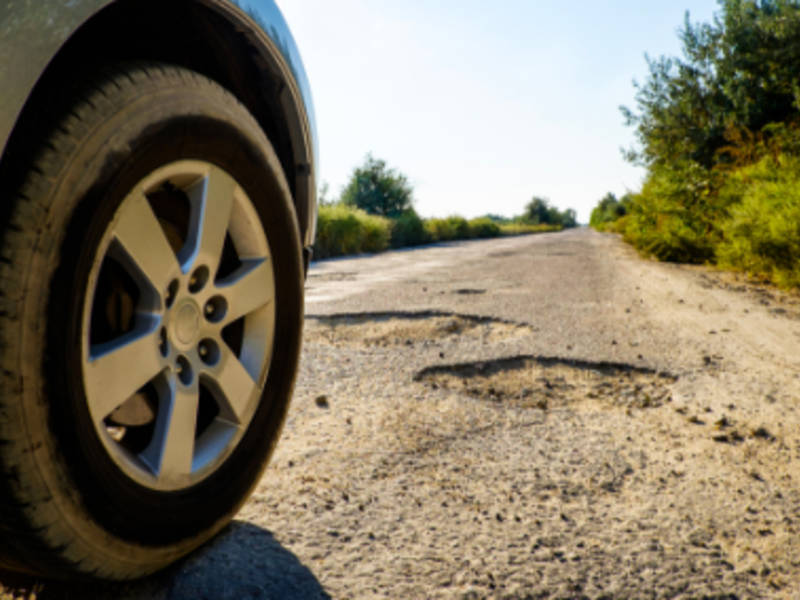pothole: (427, 341, 677, 418), (315, 289, 521, 345)
